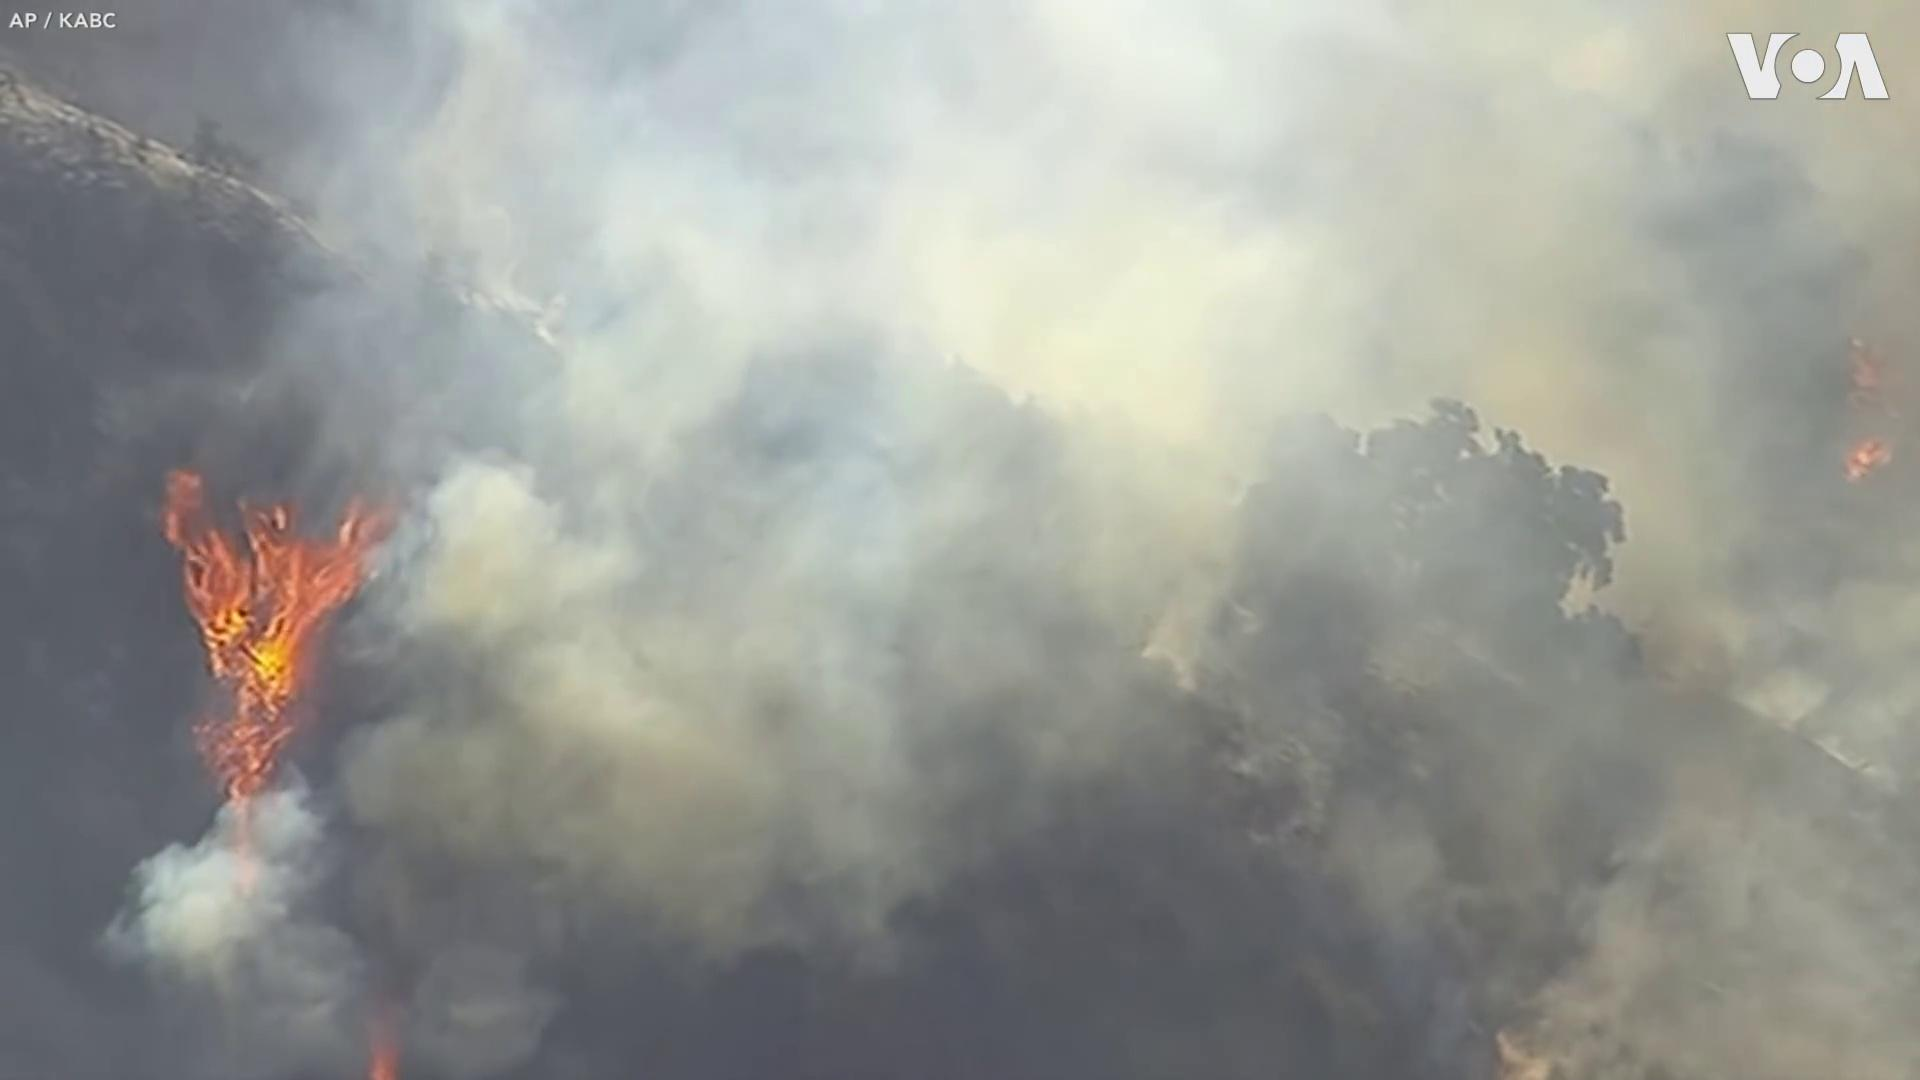fire: (152, 455, 389, 785)
smoke: (393, 51, 1866, 947)
